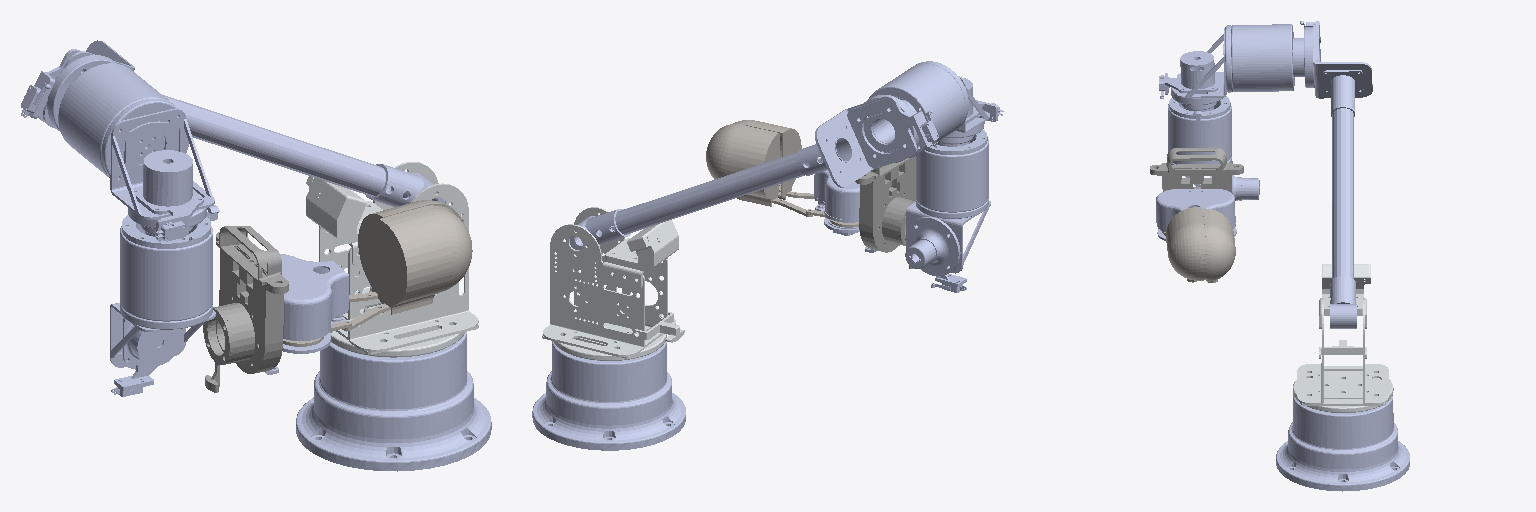
robot.urdf — full_sampling_urdf:
<?xml version="1.0" encoding="utf-8"?>
<!-- This URDF was automatically created by SolidWorks to URDF Exporter! Originally created by [author] ([email redacted]) 
     Commit Version: 1.6.0-4-g7f85cfe  Build Version: 1.6.7995.38578
     For more information, please see http://wiki.ros.org/sw_urdf_exporter -->
<robot
  name="full_sampling_urdf">
  <link name="world"/>
  <joint name="base_rover" type="fixed">
      <parent link="world"/>
      <child link="rover"/>
      <origin rpy="0 0 0" xyz="0.0 0.0 0.00001"/>
  </joint>
  <link
    name="rover">
    <inertial>
      <origin
        xyz="-0.029777 -0.04233 0.22201"
        rpy="0 0 0" />
      <mass
        value="23.83" />
      <inertia
        ixx="0.10672"
        ixy="-0.0004091"
        ixz="-0.0028185"
        iyy="0.13598"
        iyz="-0.0022915"
        izz="0.14333" />
    </inertial>
    <visual>
      <origin
        xyz="0 0 0"
        rpy="0 0 0" />
      <geometry>
        <mesh
          filename="package://full_sampling_urdf/meshes/rover.STL" />
      </geometry>
      <material
        name="">
        <color
          rgba="0.79216 0.81961 0.93333 1" />
      </material>
    </visual>
    <collision>
      <origin
        xyz="0 0 0"
        rpy="0 0 0" />
      <geometry>
        <mesh
          filename="package://full_sampling_urdf/meshes/rover.STL" />
      </geometry>
    </collision>
  </link>
  <link
    name="base_arm">
    <inertial>
      <origin
        xyz="-4.0327E-09 -1.0227E-07 0.053561"
        rpy="0 0 0" />
      <mass
        value="1.1556" />
      <inertia
        ixx="0.0056425"
        ixy="-2.1507E-18"
        ixz="2.1873E-18"
        iyy="0.0056425"
        iyz="-3.0773E-17"
        izz="0.0078318" />
    </inertial>
    <visual>
      <origin
        xyz="0 0 0"
        rpy="0 0 0" />
      <geometry>
        <mesh
          filename="package://full_sampling_urdf/meshes/base_arm.STL" />
      </geometry>
      <material
        name="">
        <color
          rgba="0.79216 0.81961 0.93333 1" />
      </material>
    </visual>
    <collision>
      <origin
        xyz="0 0 0"
        rpy="0 0 0" />
      <geometry>
        <mesh
          filename="package://full_sampling_urdf/meshes/base_arm.STL" />
      </geometry>
    </collision>
  </link>
  <joint
    name="base_joint"
    type="fixed">
    <origin
      xyz="0.24899 0.00070869 0.407"
      rpy="0 0 0" />
    <parent
      link="rover" />
    <child
      link="base_arm" />
    <axis
      xyz="0 0 0" />
  </joint>
  <link
    name="link_1">
    <inertial>
      <origin
        xyz="-0.01406 0.00054755 0.076994"
        rpy="0 0 0" />
      <mass
        value="0.68744" />
      <inertia
        ixx="0.0012842"
        ixy="9.1195E-07"
        ixz="-0.00011108"
        iyy="0.0019828"
        iyz="-6.3597E-06"
        izz="0.0013733" />
    </inertial>
    <visual>
      <origin
        xyz="0 0 0"
        rpy="0 0 0" />
      <geometry>
        <mesh
          filename="package://full_sampling_urdf/meshes/link_1.STL" />
      </geometry>
      <material
        name="">
        <color
          rgba="0.89804 0.91765 0.92941 1" />
      </material>
    </visual>
    <collision>
      <origin
        xyz="0 0 0"
        rpy="0 0 0" />
      <geometry>
        <mesh
          filename="package://full_sampling_urdf/meshes/link_1.STL" />
      </geometry>
    </collision>
  </link>
  <joint
    name="joint_1"
    type="revolute">
    <origin
      xyz="0 0 0.133"
      rpy="0 0 0" />
    <parent
      link="base_arm" />
    <child
      link="link_1" />
    <axis
      xyz="0 0 1" />
    <limit
      lower="-3.14"
      upper="3.14"
      effort="100"
      velocity="2" />
  </joint>
  <link
    name="link_2">
    <inertial>
      <origin
        xyz="-0.00045755 0.40328 0.043283"
        rpy="0 0 0" />
      <mass
        value="0.4979" />
      <inertia
        ixx="0.0016855"
        ixy="5.5179E-06"
        ixz="8.2239E-07"
        iyy="0.0004916"
        iyz="-3.1358E-05"
        izz="0.0016038" />
    </inertial>
    <visual>
      <origin
        xyz="0 0 0"
        rpy="0 0 0" />
      <geometry>
        <mesh
          filename="package://full_sampling_urdf/meshes/link_2.STL" />
      </geometry>
      <material
        name="">
        <color
          rgba="0.79216 0.81961 0.93333 1" />
      </material>
    </visual>
    <collision>
      <origin
        xyz="0 0 0"
        rpy="0 0 0" />
      <geometry>
        <mesh
          filename="package://full_sampling_urdf/meshes/link_2.STL" />
      </geometry>
    </collision>
  </link>
  <joint
    name="joint_2"
    type="revolute">
    <origin
      xyz="0.035502 0 0.1489"
      rpy="1.6351 -1.0672 -0.073404" />
    <parent
      link="link_1" />
    <child
      link="link_2" />
    <axis
      xyz="0.035393 0 0.99937" />
    <limit
      lower="-3.14"
      upper="0"
      effort="100"
      velocity="2" />
  </joint>
  <link
    name="link_3">
    <inertial>
      <origin
        xyz="-0.000291 -0.019482 0.039042"
        rpy="0 0 0" />
      <mass
        value="0.7923" />
      <inertia
        ixx="0.0012569"
        ixy="-2.4571E-06"
        ixz="4.6665E-06"
        iyy="0.001197"
        iyz="2.0351E-05"
        izz="0.0014787" />
    </inertial>
    <visual>
      <origin
        xyz="0 0 0"
        rpy="0 0 0" />
      <geometry>
        <mesh
          filename="package://full_sampling_urdf/meshes/link_3.STL" />
      </geometry>
      <material
        name="">
        <color
          rgba="0.79216 0.81961 0.93333 1" />
      </material>
    </visual>
    <collision>
      <origin
        xyz="0 0 0"
        rpy="0 0 0" />
      <geometry>
        <mesh
          filename="package://full_sampling_urdf/meshes/link_3.STL" />
      </geometry>
    </collision>
  </link>
  <joint
    name="joint_3"
    type="revolute">
    <origin
      xyz="0 0.5275 0.1315"
      rpy="0 0 -1.0686" />
    <parent
      link="link_2" />
    <child
      link="link_3" />
    <axis
      xyz="0 0 -1" />
    <limit
      lower="0"
      upper="6.28"
      effort="50"
      velocity="4" />
  </joint>
  <link
    name="link_4">
    <inertial>
      <origin
        xyz="0.00050132 0.0079397 0.021739"
        rpy="0 0 0" />
      <mass
        value="0.66623" />
      <inertia
        ixx="0.00088572"
        ixy="-1.7903E-06"
        ixz="4.2323E-06"
        iyy="0.00090613"
        iyz="-1.458E-05"
        izz="0.0011479" />
    </inertial>
    <visual>
      <origin
        xyz="0 0 0"
        rpy="0 0 0" />
      <geometry>
        <mesh
          filename="package://full_sampling_urdf/meshes/link_4.STL" />
      </geometry>
      <material
        name="">
        <color
          rgba="0.79216 0.81961 0.93333 1" />
      </material>
    </visual>
    <collision>
      <origin
        xyz="0 0 0"
        rpy="0 0 0" />
      <geometry>
        <mesh
          filename="package://full_sampling_urdf/meshes/link_4.STL" />
      </geometry>
    </collision>
  </link>
  <joint
    name="joint_4"
    type="revolute">
    <origin
      xyz="6.8566E-05 -0.12961 0.10761"
      rpy="-0.50301 1.5354 -2.073" />
    <parent
      link="link_3" />
    <child
      link="link_4" />
    <axis
      xyz="-0.031013 0 -0.99952" />
    <limit
      lower="-3.14"
      upper="3.14"
      effort="50"
      velocity="4" />
  </joint>
  <link
    name="link_5">
    <inertial>
      <origin
        xyz="8.5395E-05 0.0195 0.015426"
        rpy="0 0 0" />
      <mass
        value="0.072706" />
      <inertia
        ixx="9.5574E-05"
        ixy="-2.287E-08"
        ixz="2.2014E-09"
        iyy="8.2533E-05"
        iyz="-6.206E-06"
        izz="0.00016181" />
    </inertial>
    <visual>
      <origin
        xyz="0 0 0"
        rpy="0 0 0" />
      <geometry>
        <mesh
          filename="package://full_sampling_urdf/meshes/link_5.STL" />
      </geometry>
      <material
        name="">
        <color
          rgba="0.69804 0.69804 0.69804 1" />
      </material>
    </visual>
    <collision>
      <origin
        xyz="0 0 0"
        rpy="0 0 0" />
      <geometry>
        <mesh
          filename="package://full_sampling_urdf/meshes/link_5.STL" />
      </geometry>
    </collision>
  </link>
  <joint
    name="joint_5"
    type="revolute">
    <origin
      xyz="-0.0010256 0.083 0.10269"
      rpy="-1.5692 0.030978 0.050701" />
    <parent
      link="link_4" />
    <child
      link="link_5" />
    <axis
      xyz="0 0 -1" />
    <limit
      lower="-3.14"
      upper="3.14"
      effort="50"
      velocity="4" />
  </joint>
  <link
    name="link_6">
    <inertial>
      <origin
        xyz="-0.0017604 0.062158 -0.17532"
        rpy="0 0 0" />
      <mass
        value="0.14212" />
      <inertia
        ixx="0.00013968"
        ixy="3.672E-07"
        ixz="-4.6714E-08"
        iyy="0.00027464"
        iyz="-8.9751E-07"
        izz="0.00017205" />
    </inertial>
    <visual>
      <origin
        xyz="0 0 0"
        rpy="0 0 0" />
      <geometry>
        <mesh
          filename="package://full_sampling_urdf/meshes/link_6.STL" />
      </geometry>
      <material
        name="">
        <color
          rgba="0.79216 0.81961 0.93333 1" />
      </material>
    </visual>
    <collision>
      <origin
        xyz="0 0 0"
        rpy="0 0 0" />
      <geometry>
        <mesh
          filename="package://full_sampling_urdf/meshes/link_6.STL" />
      </geometry>
    </collision>
  </link>
  <joint
    name="joint_6"
    type="fixed">
    <origin
      xyz="0 -0.050661 0.25285"
      rpy="0 0 -0.010445" />
    <parent
      link="link_5" />
    <child
      link="link_6" />
    <axis
      xyz="0 0 0" />
  </joint>
  <link
    name="Right_ee">
    <inertial>
      <origin
        xyz="-0.0074213 0.15375 0.039993"
        rpy="0 0 0" />
      <mass
        value="0.12335" />
      <inertia
        ixx="0.00024213"
        ixy="1.1333E-06"
        ixz="4.9689E-07"
        iyy="0.00013613"
        iyz="-2.9952E-06"
        izz="0.00016427" />
    </inertial>
    <visual>
      <origin
        xyz="0 0 0"
        rpy="0 0 0" />
      <geometry>
        <mesh
          filename="package://full_sampling_urdf/meshes/Right_ee.STL" />
      </geometry>
      <material
        name="">
        <color
          rgba="0.77647 0.75686 0.73725 1" />
      </material>
    </visual>
    <collision>
      <origin
        xyz="0 0 0"
        rpy="0 0 0" />
      <geometry>
        <mesh
          filename="package://full_sampling_urdf/meshes/Right_ee.STL" />
      </geometry>
    </collision>
  </link>
  <joint
    name="joint_ree"
    type="revolute">
    <origin
      xyz="-0.030503 0.047545 -0.18085"
      rpy="1.5692 0.050652 -0.020613" />
    <parent
      link="link_6" />
    <child
      link="Right_ee" />
    <axis
      xyz="0.031013 0 0.99952" />
    <limit
      lower="0"
      upper="0.8"
      effort="15"
      velocity="1" />
  </joint>
  <link
    name="Left_ee">
    <inertial>
      <origin
        xyz="0.0046963 0.15434 -0.039694"
        rpy="0 0 0" />
      <mass
        value="0.12478" />
      <inertia
        ixx="0.00024869"
        ixy="-9.1851E-06"
        ixz="-6.3585E-06"
        iyy="0.00014314"
        iyz="4.4771E-06"
        izz="0.00016894" />
    </inertial>
    <visual>
      <origin
        xyz="0 0 0"
        rpy="0 0 0" />
      <geometry>
        <mesh
          filename="package://full_sampling_urdf/meshes/Left_ee.STL" />
      </geometry>
      <material
        name="">
        <color
          rgba="0.77647 0.75686 0.73725 1" />
      </material>
    </visual>
    <collision>
      <origin
        xyz="0 0 0"
        rpy="0 0 0" />
      <geometry>
        <mesh
          filename="package://full_sampling_urdf/meshes/Left_ee.STL" />
      </geometry>
    </collision>
  </link>
  <joint
    name="joint_lee"
    type="revolute">
    <origin
      xyz="0.029494 0.048172 -0.18085"
      rpy="1.5724 -0.050652 3.121" />
    <parent
      link="link_6" />
    <child
      link="Left_ee" />
    <axis
      xyz="0.031013 0 0.99952" />
    <limit
      lower="0"
      upper="0.8"
      effort="15"
      velocity="1" />
  </joint>

  <transmission name="link_1_trans">
        <type>transmission_interface/SimpleTransmission</type>
        <joint name="joint_1">
              <hardwareInterface>hardware_interface/PositionJointInterface</hardwareInterface> 
        </joint>
        <actuator name="link_1_motor">
              <hardwareInterface>hardware_interface/PositionJointInterface</hardwareInterface> 
              <mechanicalReduction>1</mechanicalReduction>
        </actuator>
  </transmission>

  <transmission name="link_2_trans">
        <type>transmission_interface/SimpleTransmission</type>
        <joint name="joint_2">
              <hardwareInterface>hardware_interface/PositionJointInterface</hardwareInterface> 
        </joint>
        <actuator name="link_2_motor">
              <hardwareInterface>hardware_interface/PositionJointInterface</hardwareInterface> 
              <mechanicalReduction>1</mechanicalReduction>
        </actuator>
  </transmission>

  <transmission name="link_3_trans">
        <type>transmission_interface/SimpleTransmission</type>
        <joint name="joint_3">
              <hardwareInterface>hardware_interface/PositionJointInterface</hardwareInterface> 
        </joint>
        <actuator name="link_3_motor">
              <hardwareInterface>hardware_interface/PositionJointInterface</hardwareInterface> 
              <mechanicalReduction>1</mechanicalReduction>
        </actuator>
  </transmission>

  <transmission name="link_4_trans">
        <type>transmission_interface/SimpleTransmission</type>
        <joint name="joint_4">
              <hardwareInterface>hardware_interface/PositionJointInterface</hardwareInterface> 
        </joint>
        <actuator name="link_4_motor">
              <hardwareInterface>hardware_interface/PositionJointInterface</hardwareInterface> 
              <mechanicalReduction>1</mechanicalReduction>
        </actuator>
  </transmission>

  <transmission name="link_5_trans">
        <type>transmission_interface/SimpleTransmission</type>
        <joint name="joint_5">
              <hardwareInterface>hardware_interface/PositionJointInterface</hardwareInterface> 
        </joint>
        <actuator name="link_5_motor">
              <hardwareInterface>hardware_interface/PositionJointInterface</hardwareInterface> 
              <mechanicalReduction>1</mechanicalReduction>
        </actuator>
  </transmission>

  <transmission name="Right_ee_trans">
        <type>transmission_interface/SimpleTransmission</type>
        <joint name="joint_ree">
              <hardwareInterface>hardware_interface/PositionJointInterface</hardwareInterface> 
        </joint>
        <actuator name="Right_ee_motor">
              <hardwareInterface>hardware_interface/PositionJointInterface</hardwareInterface> 
              <mechanicalReduction>1</mechanicalReduction>
        </actuator>
  </transmission>

  <transmission name="Left_ee_trans">
        <type>transmission_interface/SimpleTransmission</type>
        <joint name="joint_lee">
              <hardwareInterface>hardware_interface/PositionJointInterface</hardwareInterface> 
        </joint>
        <actuator name="Left_ee_motor">
              <hardwareInterface>hardware_interface/PositionJointInterface</hardwareInterface> 
              <mechanicalReduction>1</mechanicalReduction>
        </actuator>
  </transmission>   

  <gazebo>
      <plugin name="control" filename="libgazebo_ros_control.so">
          <robotNamespace>/</robotNamespace>
      </plugin>
  </gazebo>

  <gazebo reference="rover">
      <selfCollide>true</selfCollide>
  </gazebo>

  <gazebo reference="base_arm">
      <selfCollide>true</selfCollide>
  </gazebo>

  <gazebo reference="link_1">
      <selfCollide>true</selfCollide>
  </gazebo>

  <gazebo reference="link_2">
      <selfCollide>true</selfCollide>
  </gazebo>

  <gazebo reference="link_3">
      <selfCollide>true</selfCollide>
  </gazebo>

  <gazebo reference="link_4">
      <selfCollide>true</selfCollide>
  </gazebo>

  <gazebo reference="link_5">
      <selfCollide>true</selfCollide>
  </gazebo>

  <gazebo reference="Right_ee">
      <selfCollide>true</selfCollide>
  </gazebo>
  
  <gazebo reference="Left_ee">
      <selfCollide>true</selfCollide>
  </gazebo>

  <gazebo>
    <plugin name="gazebo_grasp_fix" filename="libgazebo_grasp_fix.so">
      <arm>
        <arm_name>/</arm_name>
        <palm_link>link_5</palm_link>
        <gripper_link>Right_ee</gripper_link>
        <gripper_link>Left_ee</gripper_link>
      </arm>
      <forces_angle_tolerance>90</forces_angle_tolerance>
      <update_rate>10</update_rate>
      <grip_count_threshold>3</grip_count_threshold>
      <max_grip_count>10</max_grip_count>
      <release_tolerance>0.004</release_tolerance>
      <disable_collisions_on_attach>true</disable_collisions_on_attach>
      <contact_topic>__default_topic__</contact_topic>
    </plugin> 
  </gazebo>

</robot>

--- Facts derived from the render (not from the file) ---
Views: 3 orthographic renders of the robot side by side, from view 1: azimuth 30°, elevation 25°; view 2: azimuth 150°, elevation 25°; view 3: azimuth 270°, elevation 25°.
Model full_sampling_urdf with 11 links and 10 joints (7 revolute, 3 fixed), rooted at world, posed every joint at zero.
Links seen in each view (by area): view 1: base_arm, link_3, link_4, link_1, link_2, link_5, Right_ee, link_6, Left_ee; view 2: link_1, link_2, base_arm, link_4, link_3, link_5, Left_ee, link_6, Right_ee; view 3: base_arm, link_2, link_3, link_1, link_4, link_5, Right_ee, Left_ee, link_6.
Link boxes in pixels (box(x1,y1,x2,y2)): base_arm: box(296, 332, 491, 471); link_3: box(58, 63, 214, 241); link_4: box(110, 205, 219, 396); link_1: box(306, 162, 478, 357); link_2: box(21, 40, 444, 206); link_5: box(203, 226, 288, 392); Right_ee: box(283, 205, 472, 346); link_6: box(264, 254, 348, 374); Left_ee: box(349, 200, 463, 301); link_1: box(542, 207, 684, 360); link_2: box(570, 95, 938, 249); base_arm: box(532, 341, 685, 450); link_4: box(905, 130, 990, 292); link_3: box(868, 61, 1003, 157); link_5: box(855, 156, 915, 268); Left_ee: box(706, 124, 858, 227); link_6: box(814, 170, 876, 252); Right_ee: box(733, 120, 814, 199); base_arm: box(1276, 395, 1409, 491); link_2: box(1293, 21, 1372, 328); link_3: box(1159, 24, 1294, 111); link_1: box(1293, 264, 1393, 412); link_4: box(1168, 96, 1259, 200); link_5: box(1150, 147, 1243, 193); Right_ee: box(1162, 207, 1203, 282); Left_ee: box(1199, 208, 1235, 282); link_6: box(1156, 189, 1236, 240).
Size in the robot's own frame: 0.6223 by 0.4269 by 0.5922 metres.
Meshes: 10 distinct files referenced, 9 mesh visuals loaded (9 binary STL); not drawn: 1 (reference not matched to a file when rendering).
